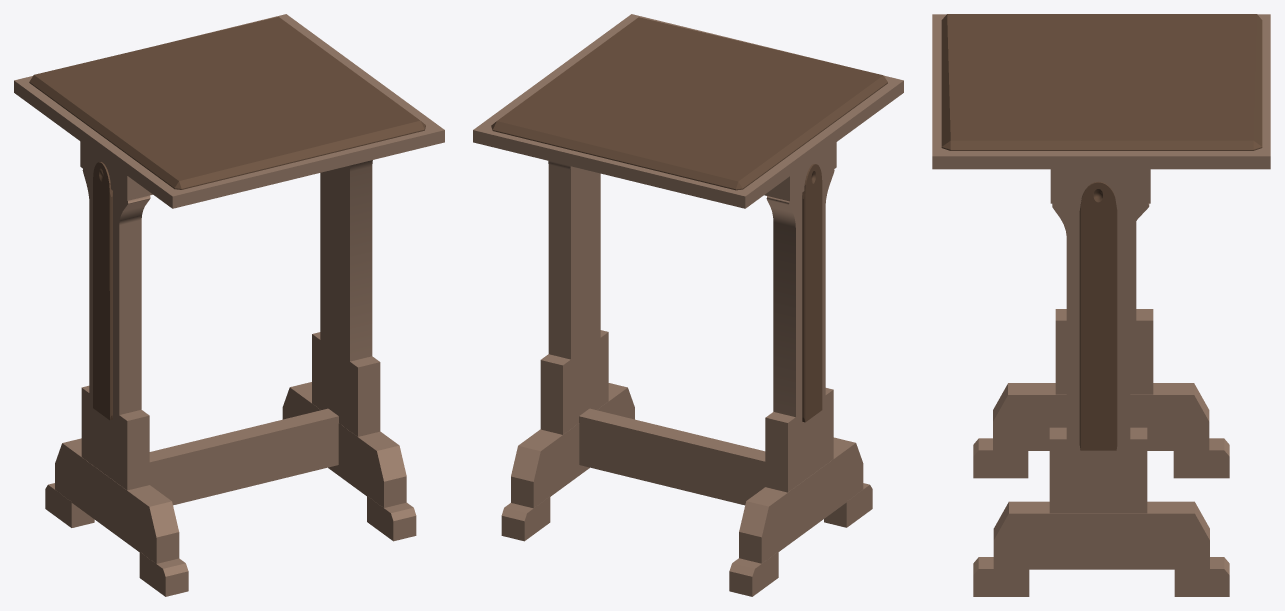
File: Nightstand.fbx
3 renders of one model, left to right at view 1: azimuth 30°, elevation 25°; view 2: azimuth 150°, elevation 25°; view 3: azimuth 270°, elevation 25°, orthographic. The views are drawn at different scales.
Visible parts, largest first — view 1: Table_big1; view 2: Table_big1; view 3: Table_big1.
Part boxes in pixels (<box>): Table_big1: <box>14,14,444,596</box>; Table_big1: <box>473,14,903,596</box>; Table_big1: <box>932,14,1270,596</box>.
Size of the model in its own units: 128 by 190 by 129.
